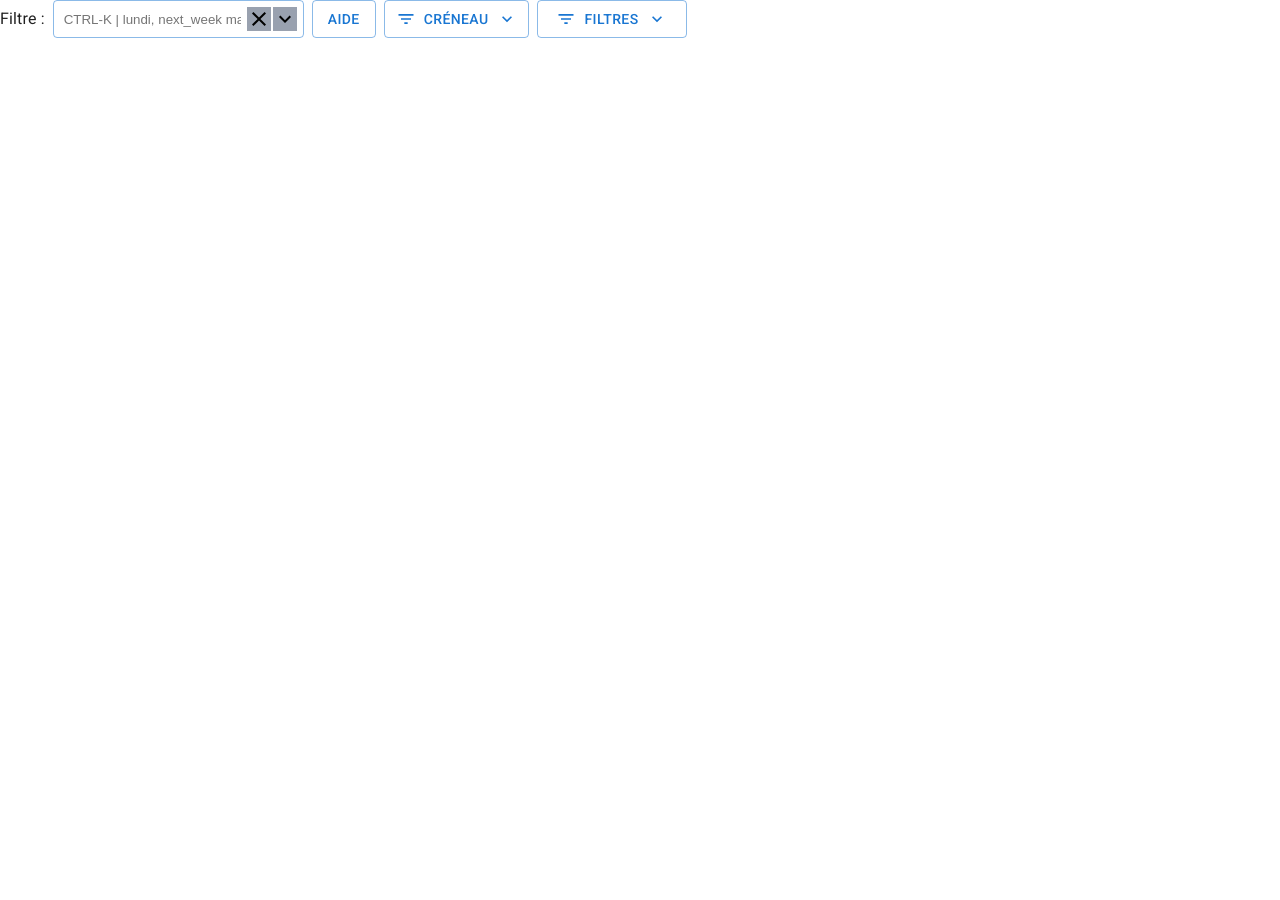
show Aide
The image size is (1280, 900).
Click the button "Aide".
click(344, 19)  # box [312, 0, 376, 38]
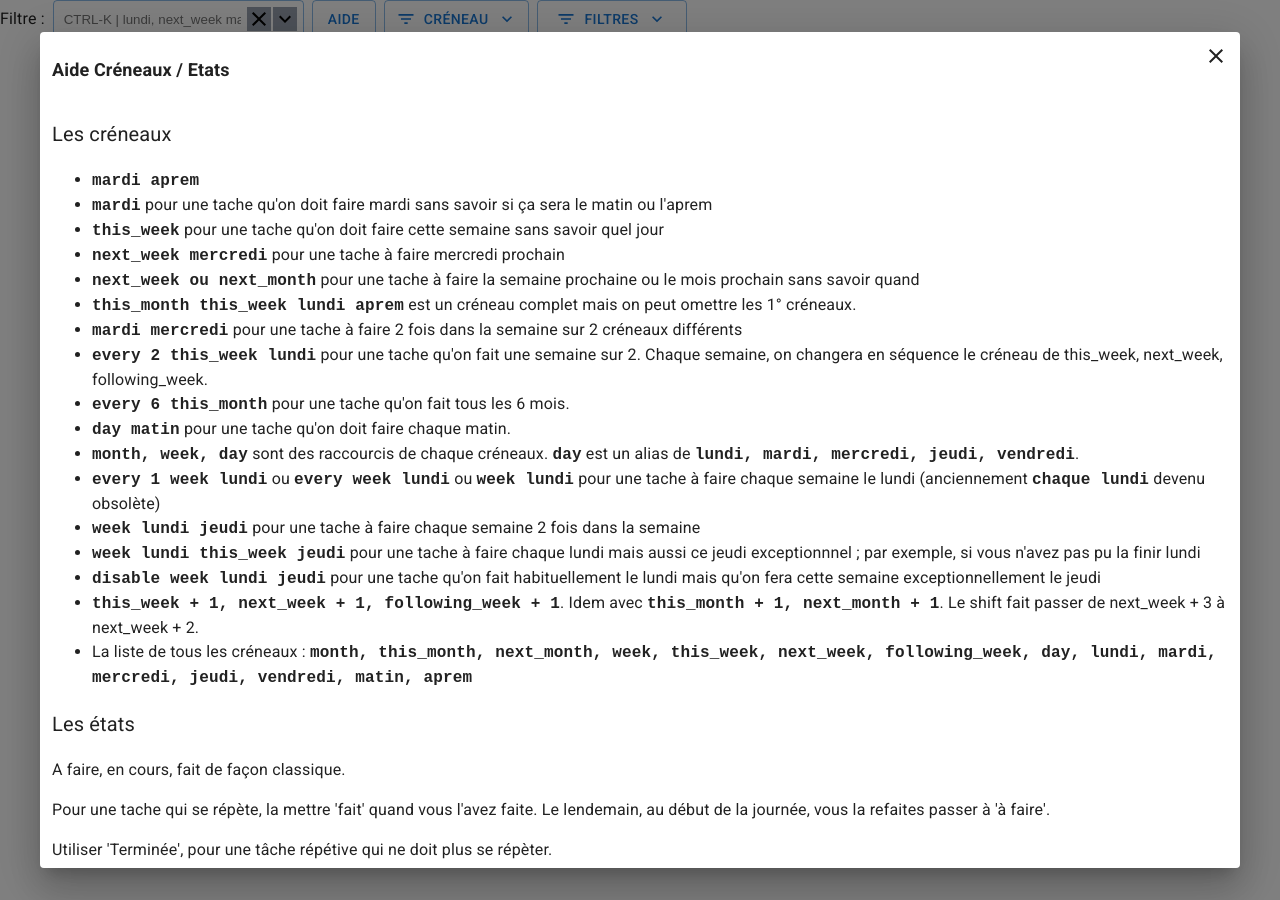
Expected: the heading "Aide Créneaux / Etats" is shown, [52, 59, 230, 80]
